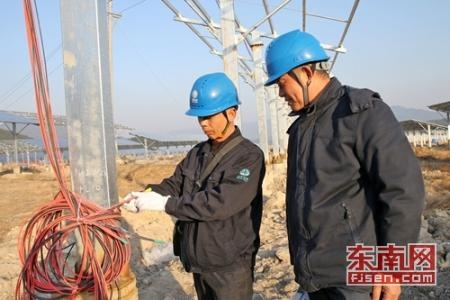blue: (264, 31, 326, 113), (187, 72, 242, 143)
